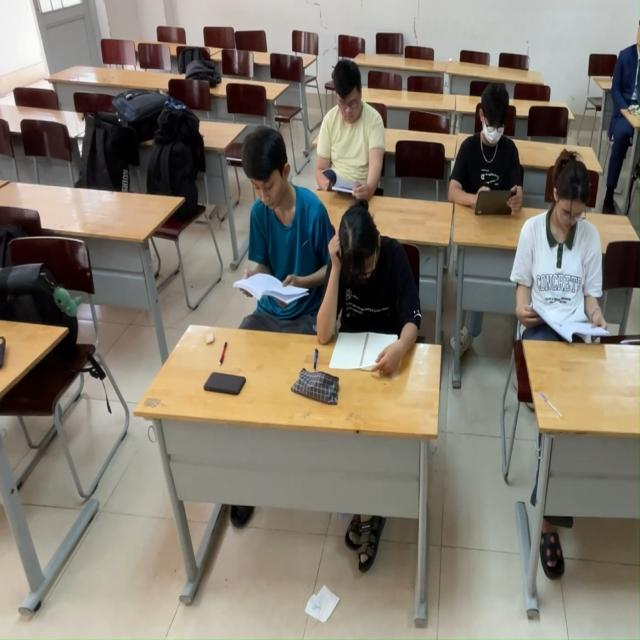read: (519, 138, 606, 388), (317, 214, 426, 373), (235, 133, 317, 339), (310, 64, 395, 194), (453, 86, 529, 228)
